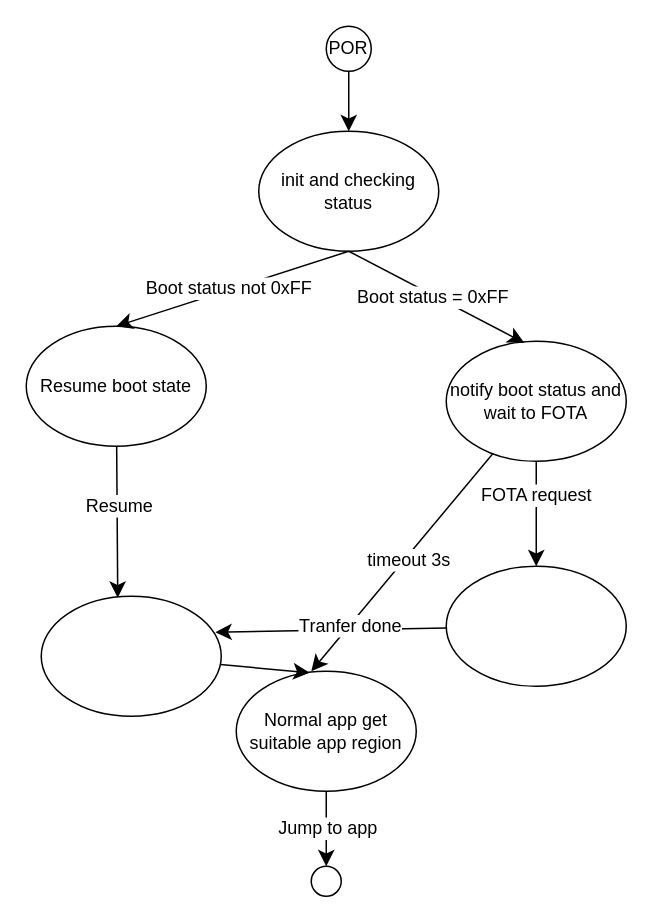
The diagram is 653 pixels wide and 923 high, and some of its shapes have lost their labels. The centre of each missing label's shape, as x and y in pixels:
"boot check , veri and update boot data" goes at [130,655].
"Transfer and write to flash" goes at [535,625].
